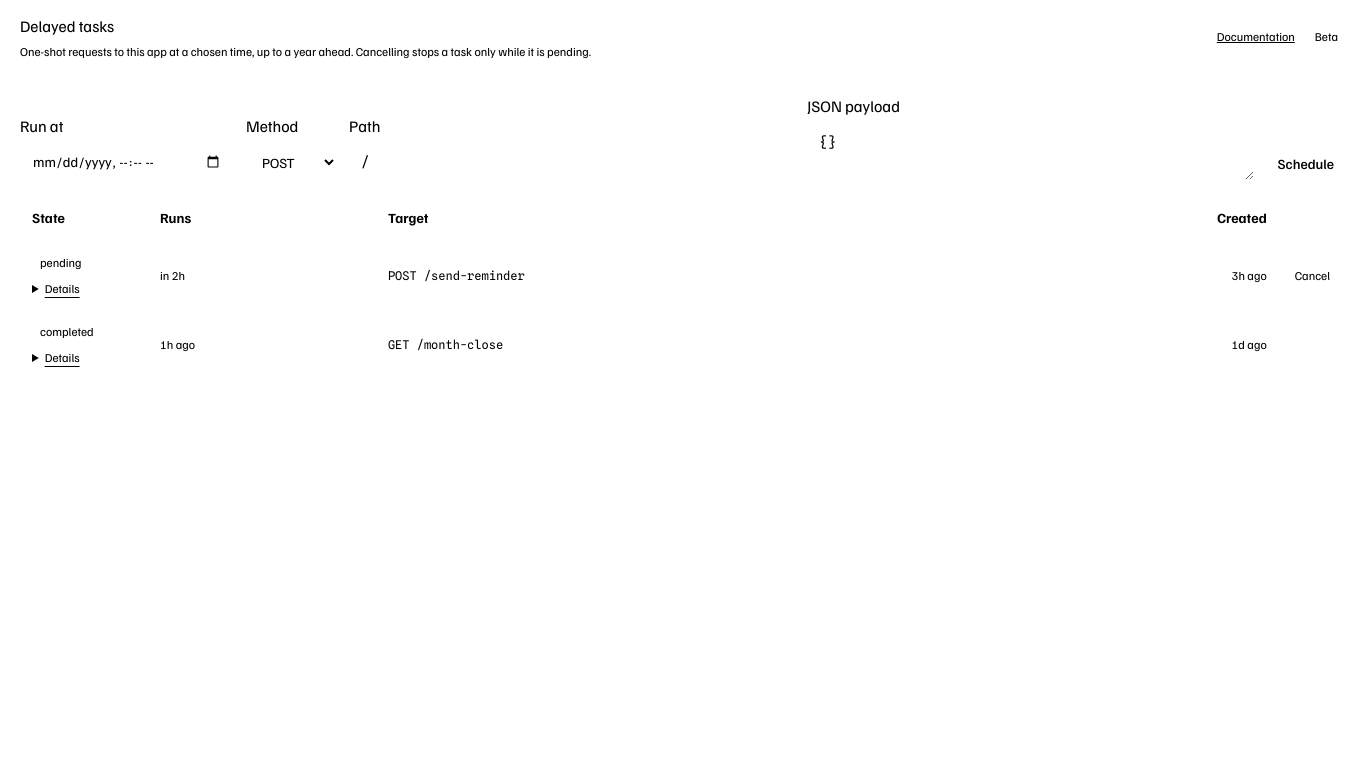
Test: DelayedTasks detail › shows the app's retained result
Click the text "GET /month-close": (446, 344) [388,336,503,352]
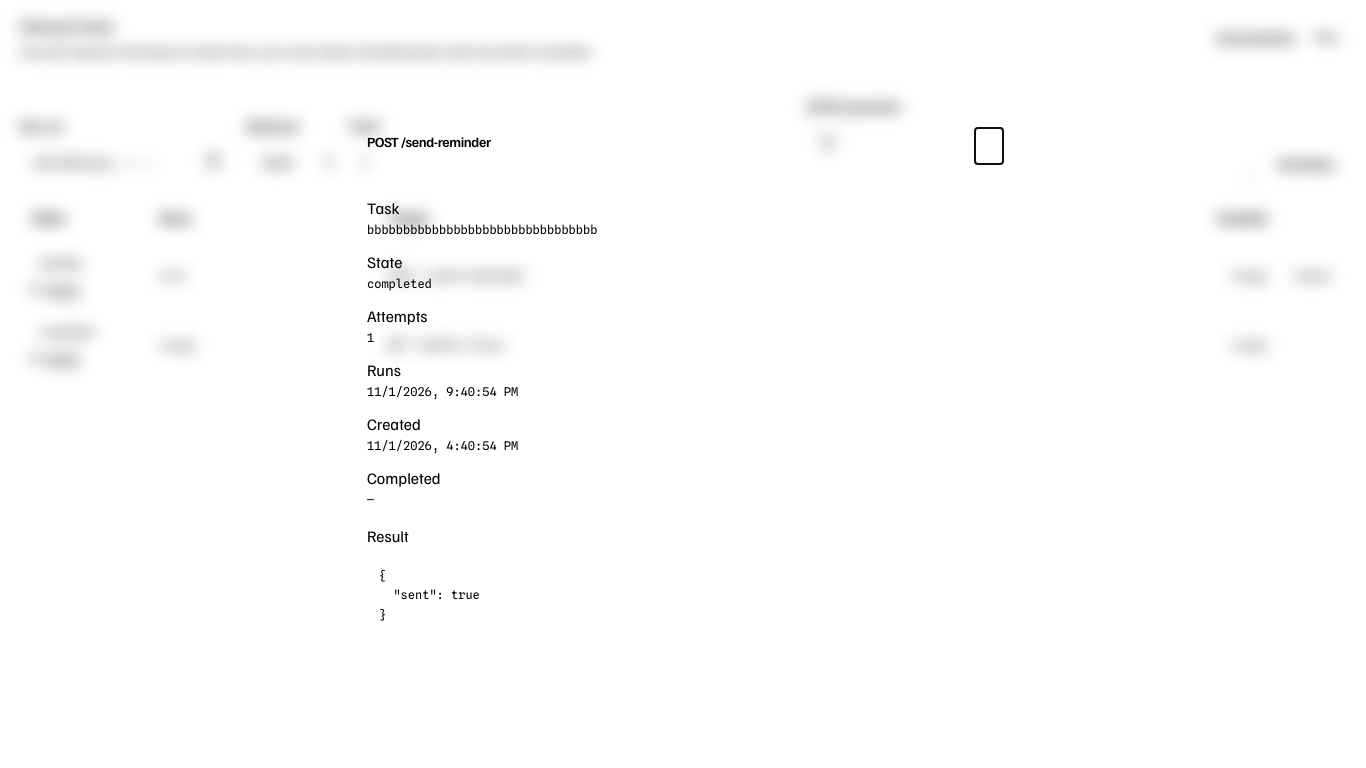
Expected: the text "{ \"sent\": true }" is shown, [379,568,480,622]
